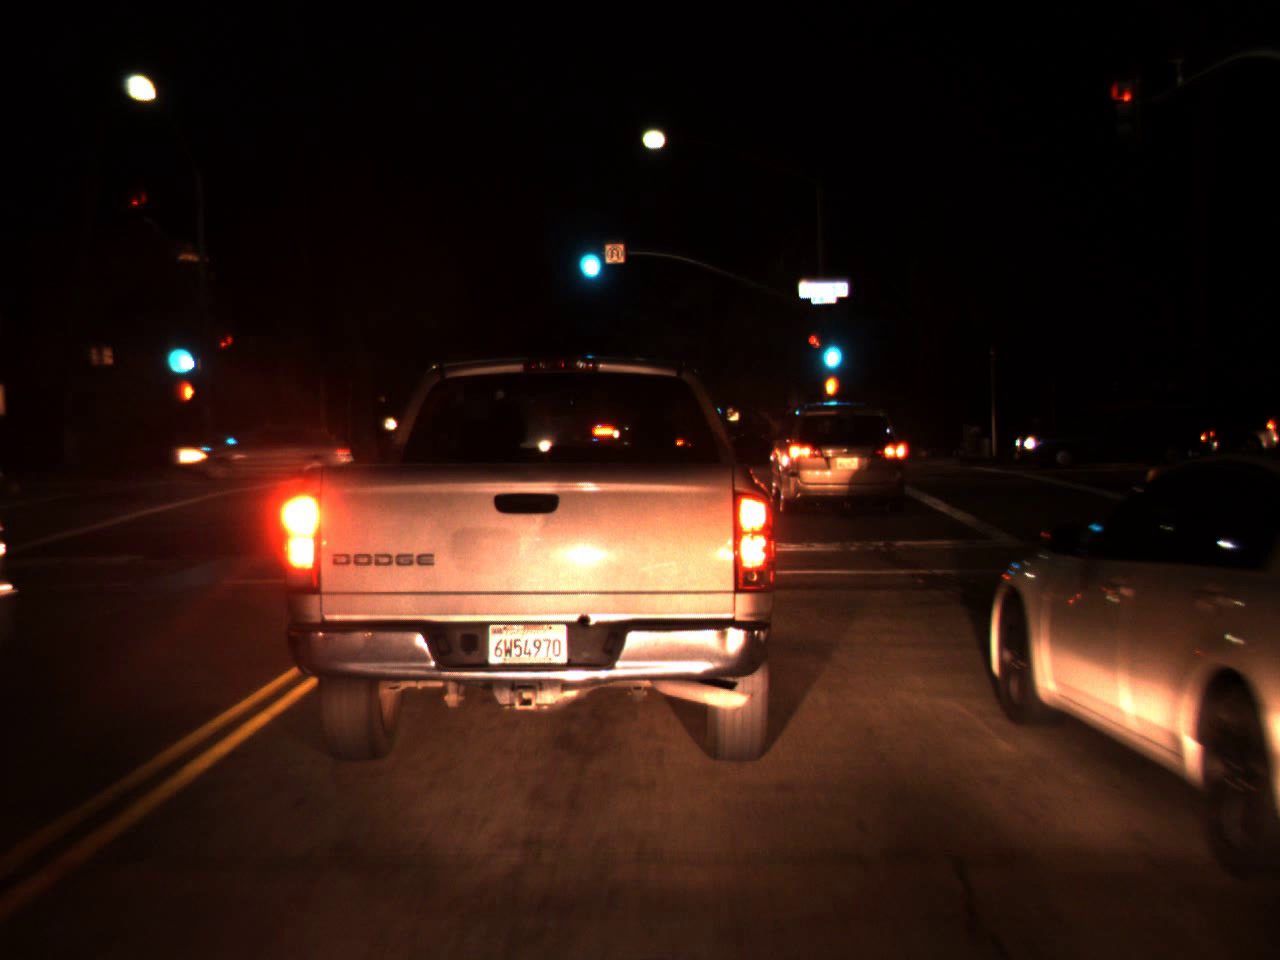go: (571, 222, 605, 288), (158, 323, 195, 377), (815, 318, 845, 378)
